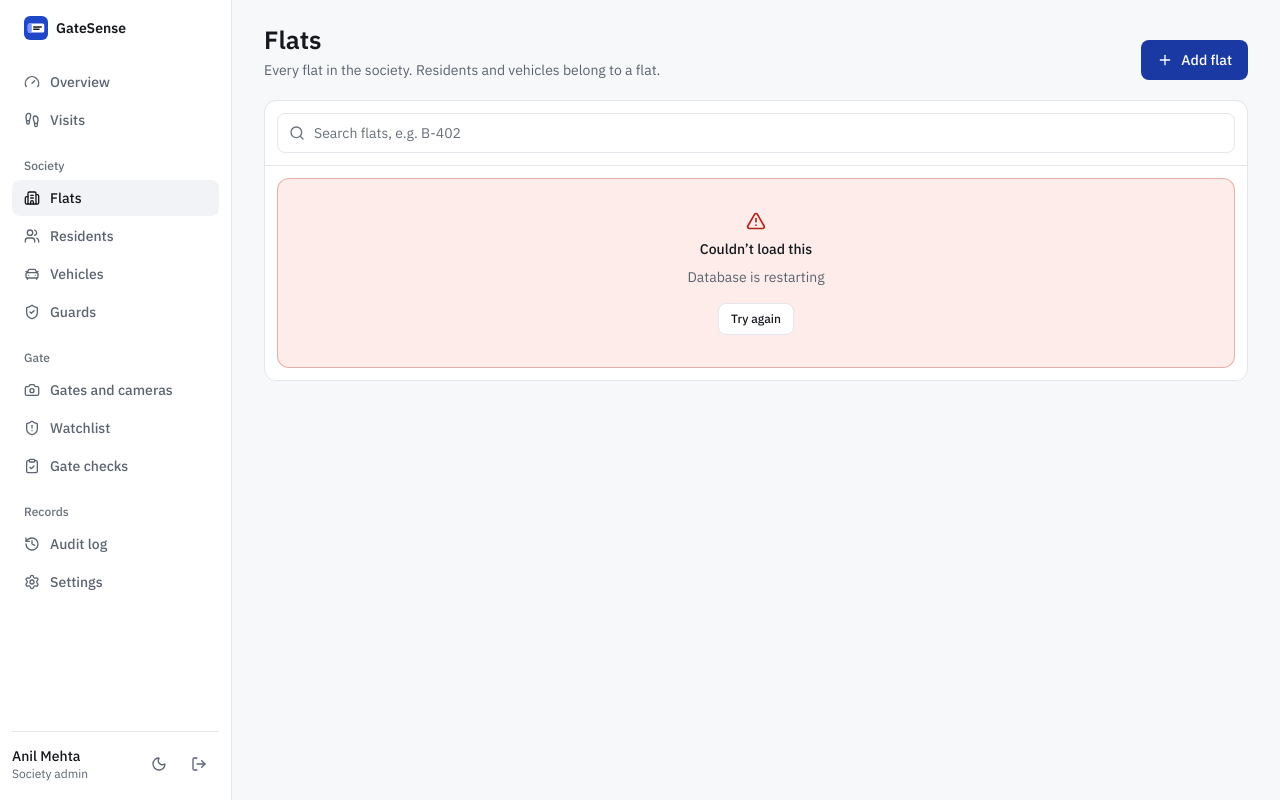
Flats › offers a retry when the list fails to load
The image size is (1280, 800).
Check: the text "Database is restarting" is shown, box [687, 267, 824, 287]
Click the button "Try again".
click(756, 319)  # box [718, 303, 794, 335]
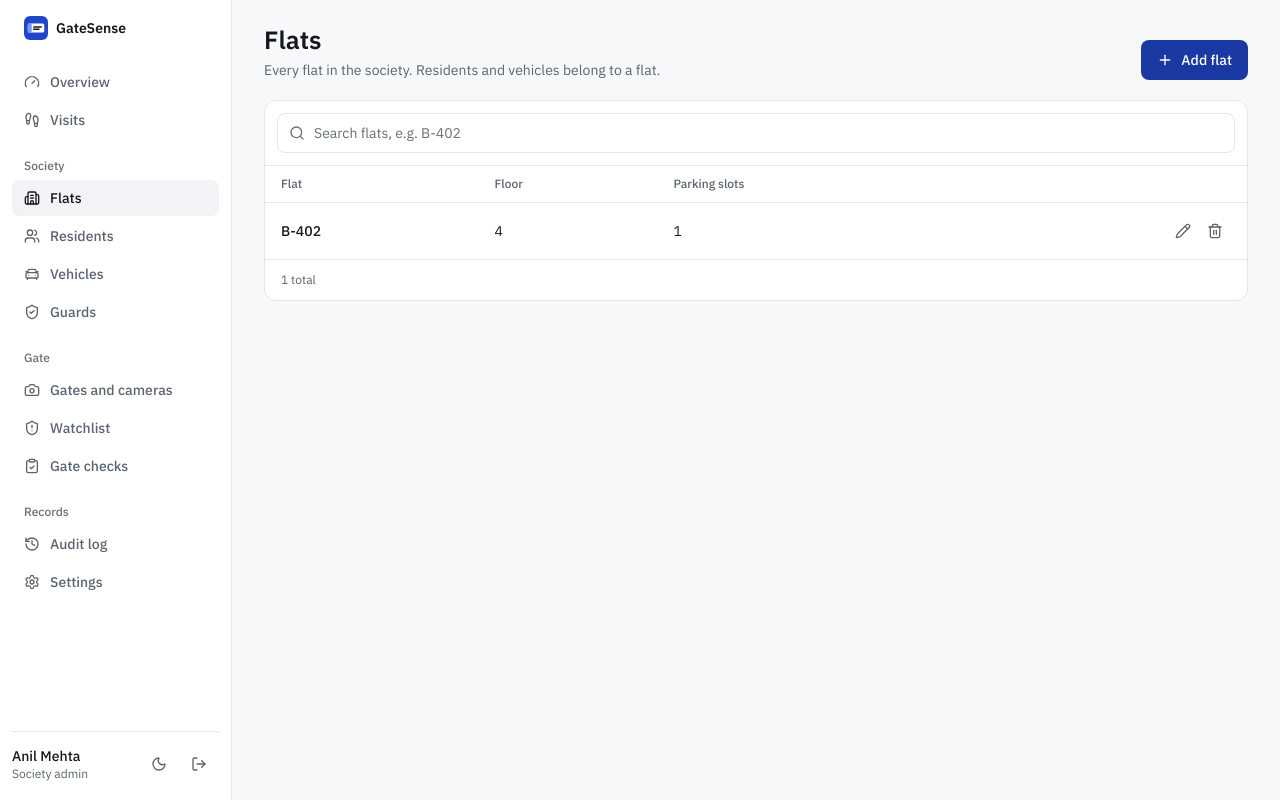
Check: the text "B-402" is shown, box [281, 222, 321, 240]
